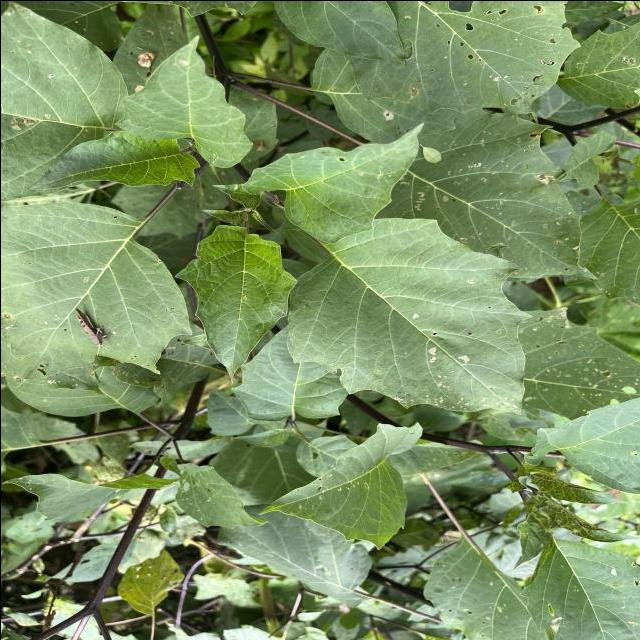Datura metal linn: (280, 210, 538, 421), (239, 120, 425, 246), (254, 418, 426, 552), (170, 220, 298, 388), (112, 32, 255, 170), (22, 126, 202, 192)
